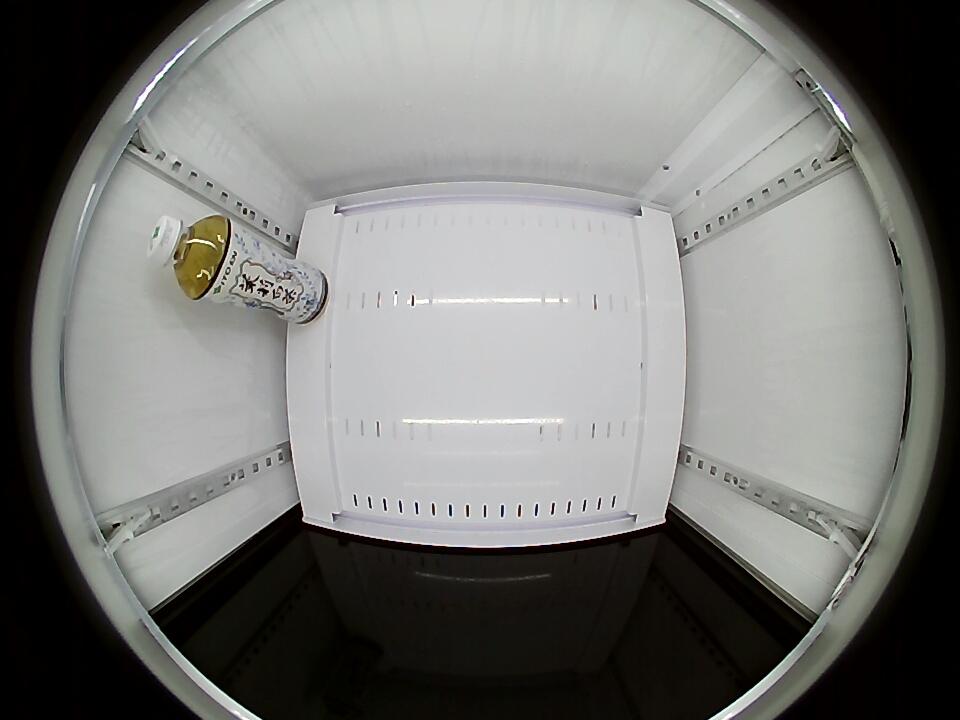baicha: (147, 213, 233, 300)
